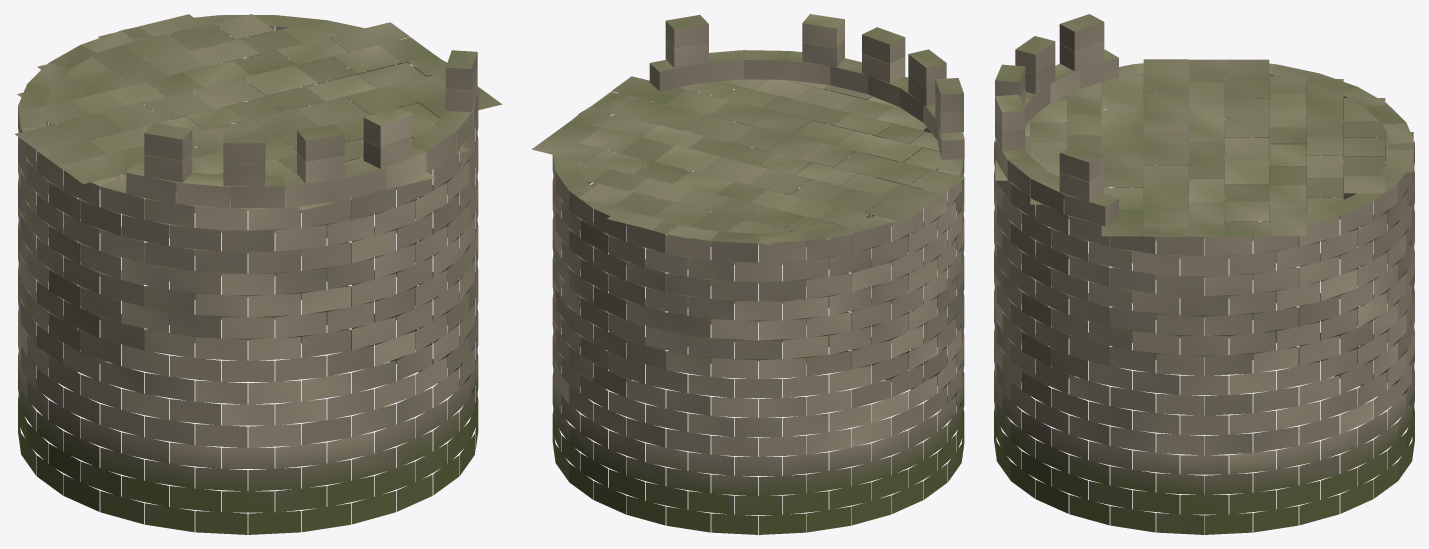
File: citadel_bastion_mid.glb
3 renders of one model, left to right at view 1: azimuth 30°, elevation 25°; view 2: azimuth 150°, elevation 25°; view 3: azimuth 270°, elevation 25°, orthographic. The views are drawn at different scales.
Parts seen in each view (by area): view 1: citadel_bastion_mid; view 2: citadel_bastion_mid; view 3: citadel_bastion_mid.
Boxes of the visible parts, x1=… form: citadel_bastion_mid: x1=15, y1=14, x2=502, y2=534; citadel_bastion_mid: x1=531, y1=14, x2=964, y2=534; citadel_bastion_mid: x1=994, y1=14, x2=1414, y2=534.
Size of the model in its own units: 42.28 by 39.57 by 42.21.
